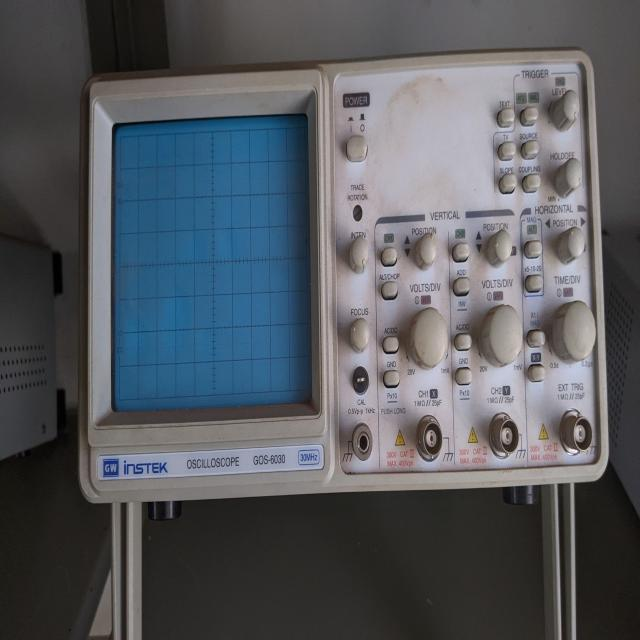Cathode Ray Oscilloscope: (74, 38, 616, 640)
